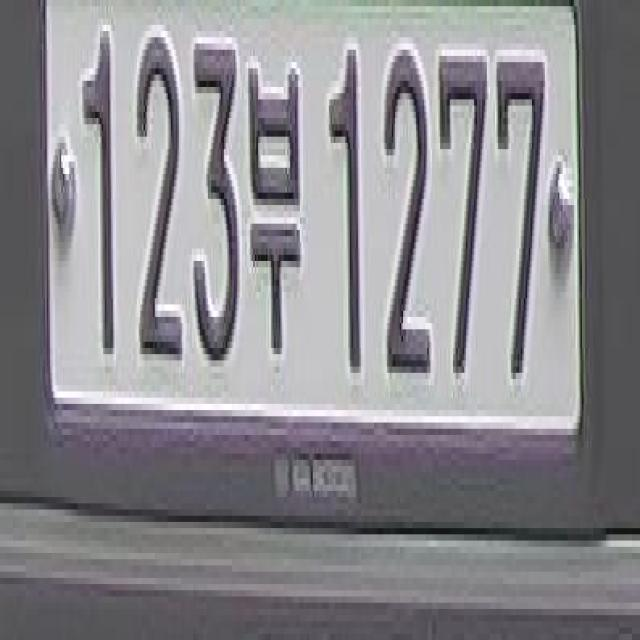illegal_plate: (47, 5, 588, 482)
